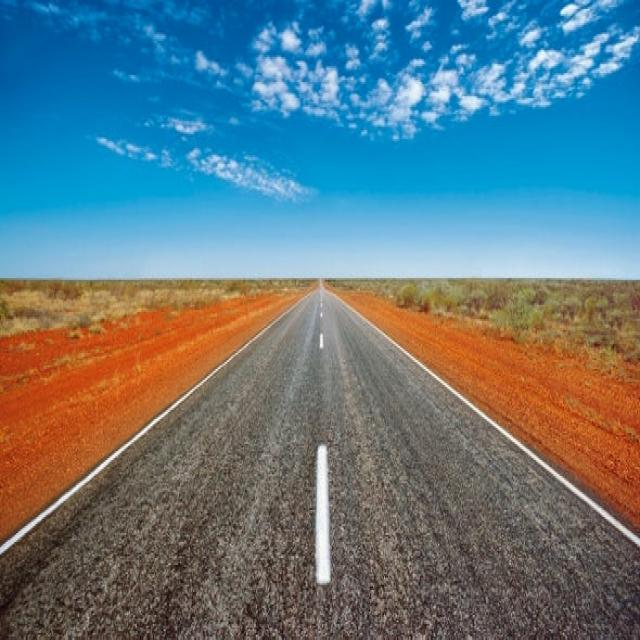Clean road: (0, 277, 640, 640)
